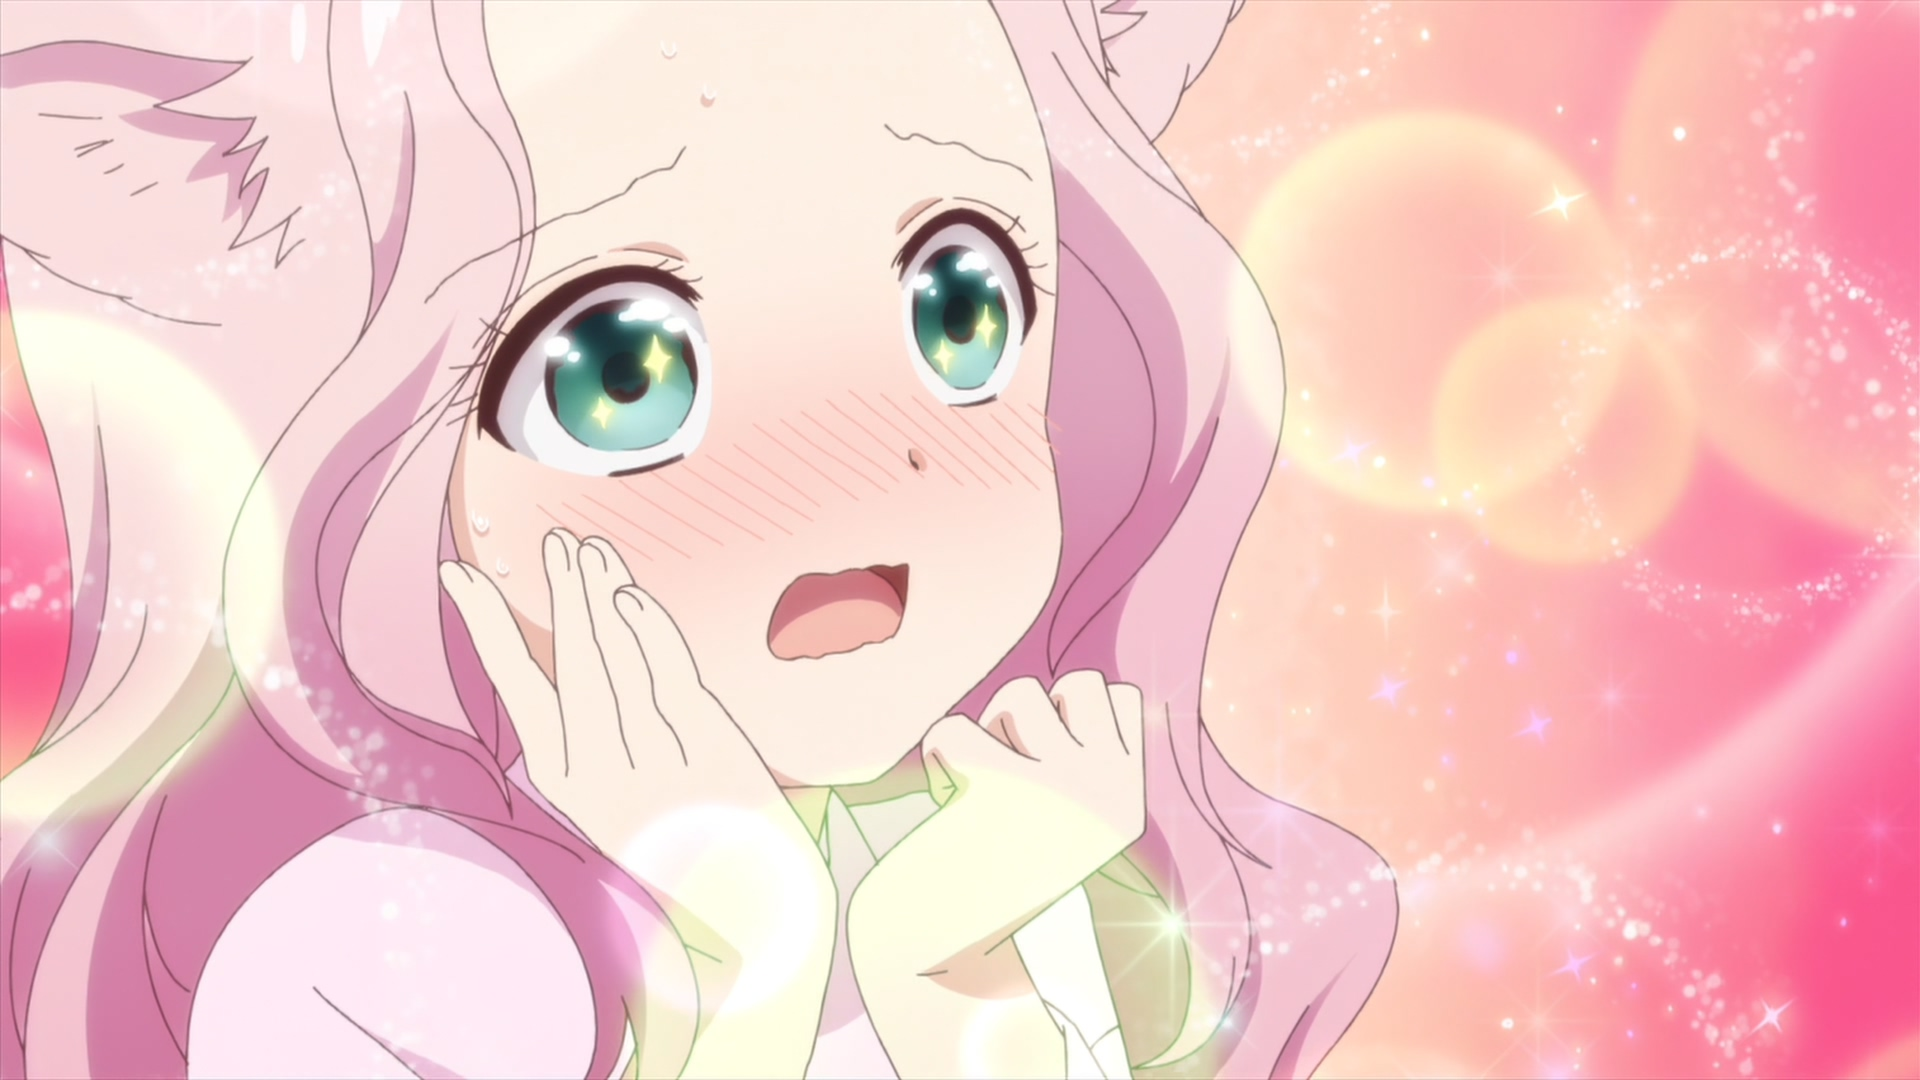莲: (1, 1, 1404, 1080)
